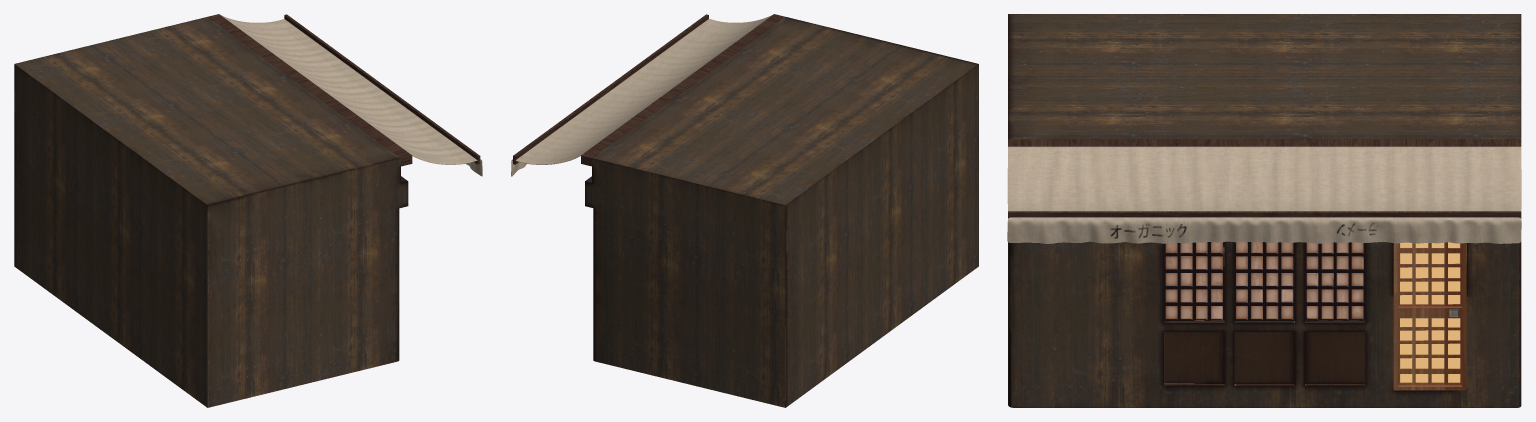
The model's file is japanese_ramen.glb.
The picture shows the model from 3 angles, left to right: view 1: azimuth 30°, elevation 25°; view 2: azimuth 150°, elevation 25°; view 3: azimuth 270°, elevation 25°; orthographic projection. The views are drawn at different scales.
Parts seen in each view (by area): view 1: Restaurant, cover (×3); view 2: Restaurant, cover (×3); view 3: Restaurant, cover (×4), restaurant.
Boxes of the visible parts, left/top/right/bottom form: Restaurant: left=14, top=16, right=408, bottom=407; cover (×3): left=208, top=14, right=480, bottom=166; Restaurant: left=585, top=17, right=978, bottom=407; cover (×3): left=513, top=14, right=784, bottom=166; Restaurant: left=1008, top=14, right=1521, bottom=407; cover (×4): left=1007, top=139, right=1521, bottom=243; restaurant: left=1393, top=242, right=1466, bottom=390.
Size of the model in its own units: 658 by 460 by 798.
5 materials, 5 textured.
